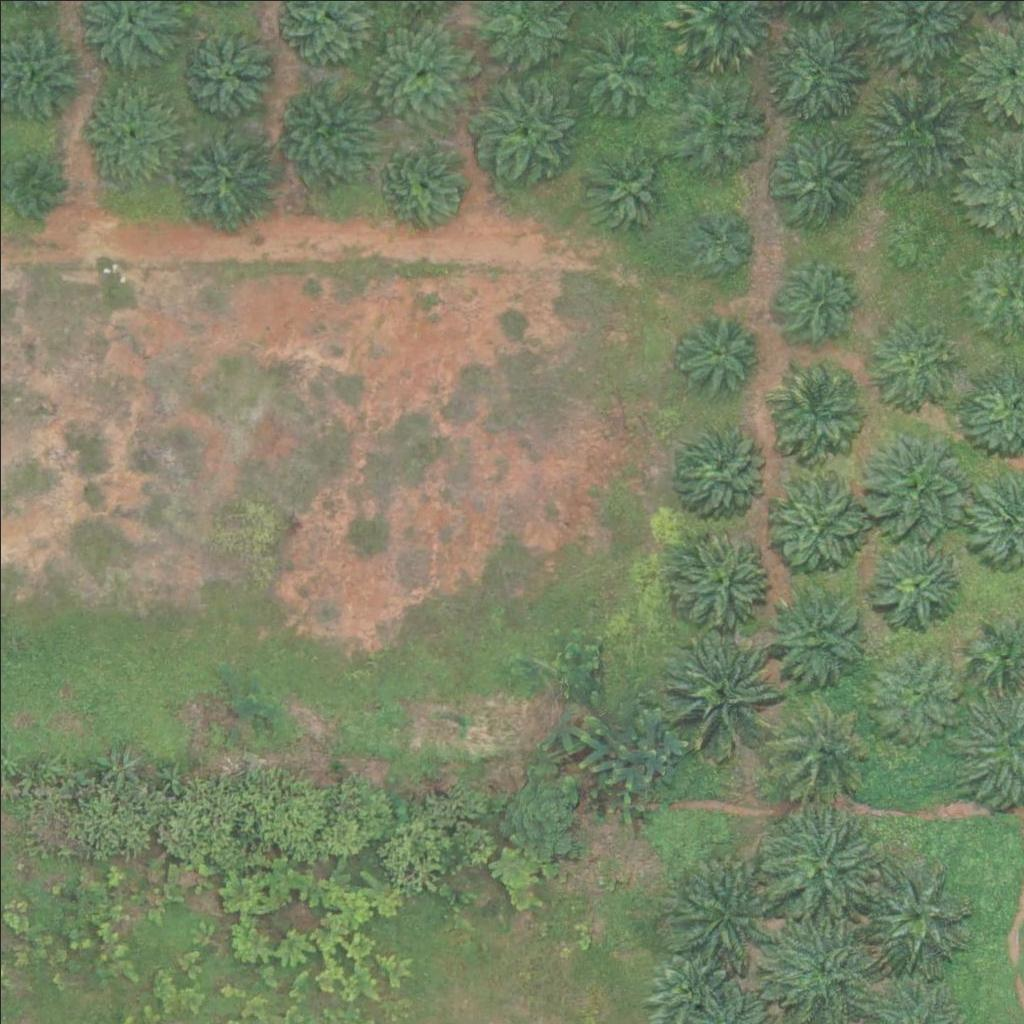Kelapa_Sawit: (760, 467, 873, 581), (862, 428, 975, 542), (362, 14, 475, 128), (767, 909, 880, 1022), (665, 847, 778, 960), (761, 118, 874, 231), (663, 632, 775, 745), (859, 858, 971, 971), (763, 805, 875, 918), (758, 574, 870, 687), (761, 10, 873, 123), (860, 81, 972, 194), (168, 118, 280, 231), (765, 696, 865, 797), (671, 530, 771, 631), (669, 74, 769, 175), (858, 311, 958, 412), (272, 75, 372, 176), (171, 16, 271, 117), (78, 78, 178, 179), (865, 644, 965, 744), (868, 532, 968, 632), (669, 417, 769, 517), (768, 357, 868, 457), (476, 76, 576, 176), (676, 305, 764, 393), (581, 143, 669, 231), (566, 23, 653, 111), (775, 253, 862, 341), (381, 140, 468, 228), (688, 210, 751, 273), (887, 207, 949, 270)
